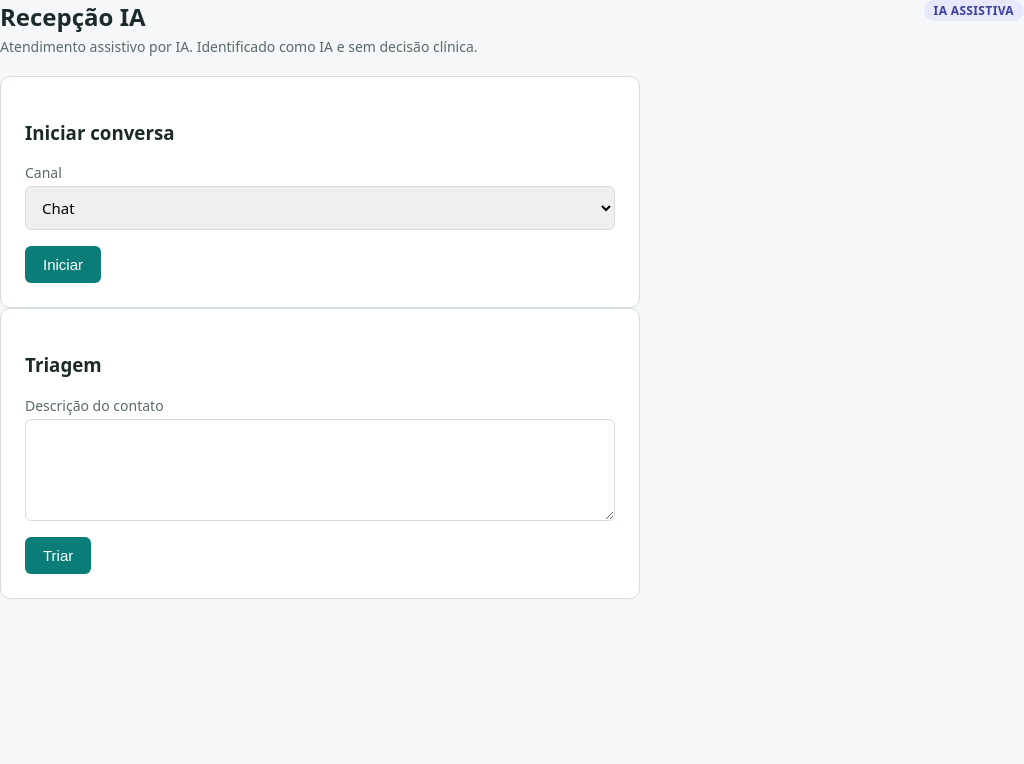
Scenario: AiFrontDeskPage › bloqueia conteudo clinico e sinaliza handoff
The width and height of the screenshot is (1024, 764).
Click the button "Iniciar" at (63, 265), box [25,246,101,283]
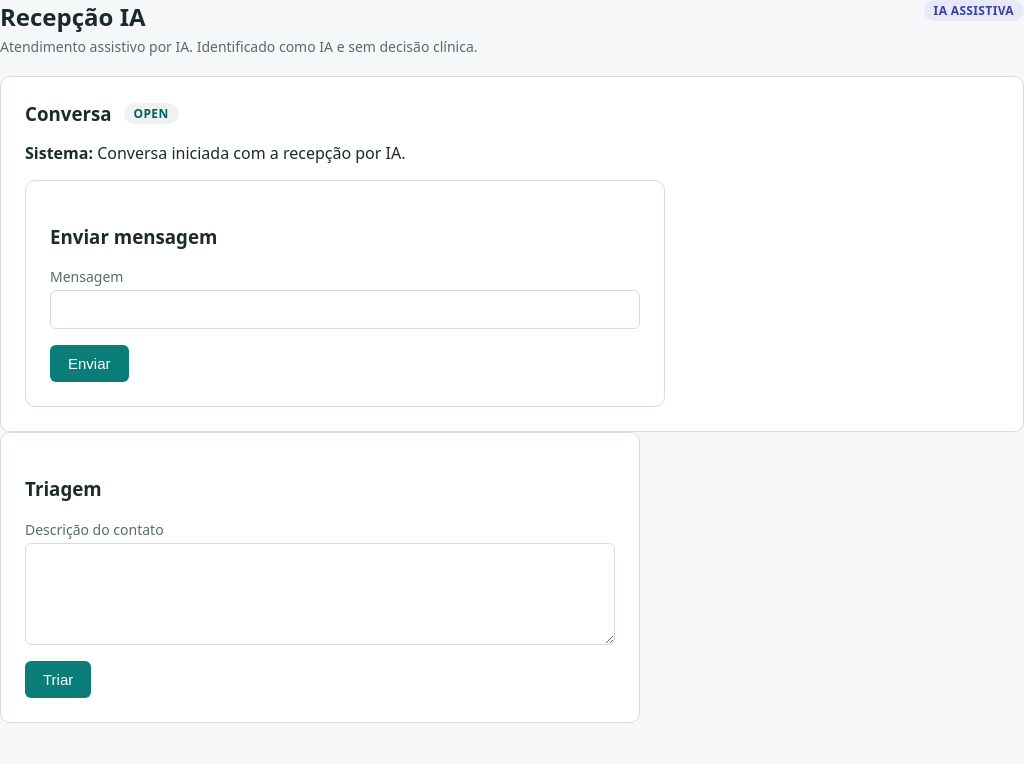
Now the element labelled "Conversa" is shown, box [0,76,1023,432]
Type "Que remédio tomar?" into the field labelled "Mensagem" at (345, 310), box [50,290,640,329]
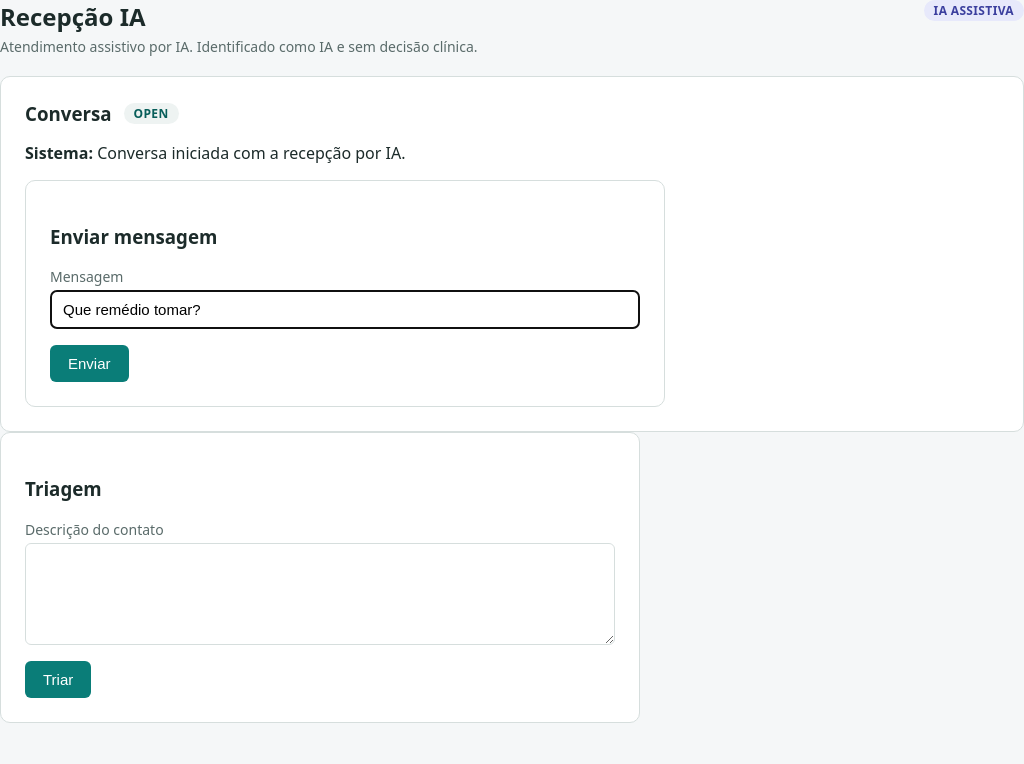
Click the button "Enviar" at (89, 364), box [50,345,128,382]
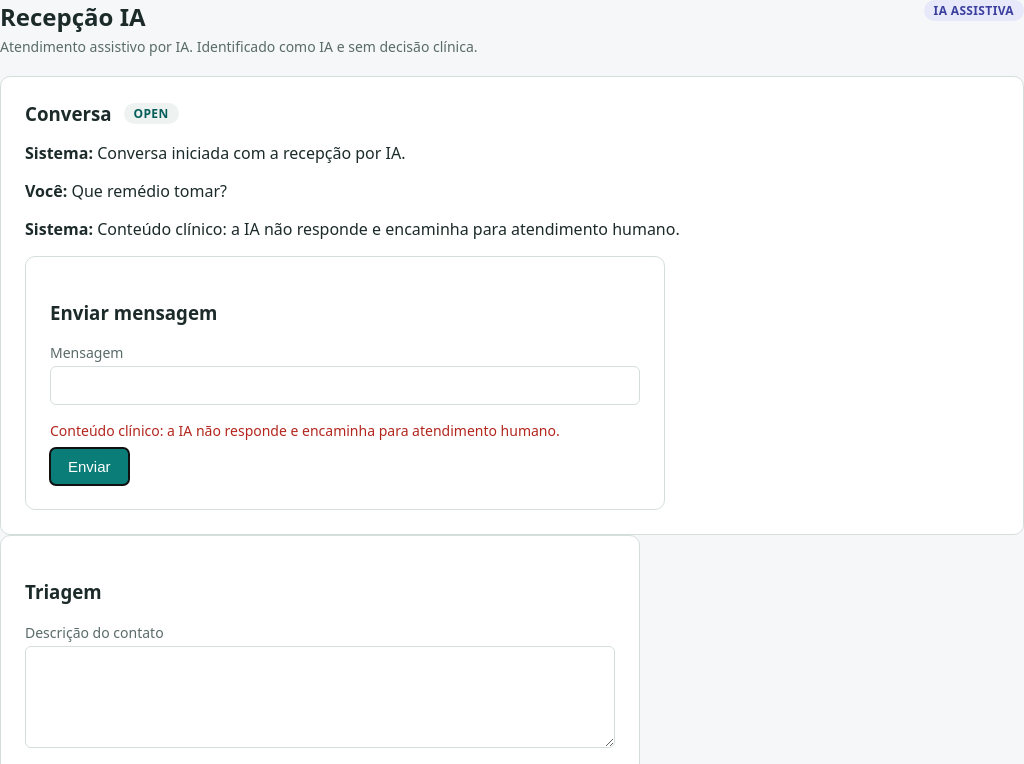
Now the text "Conteúdo clínico: a IA não responde e encaminha para atendimento humano." is shown, box [97,218,680,240]
